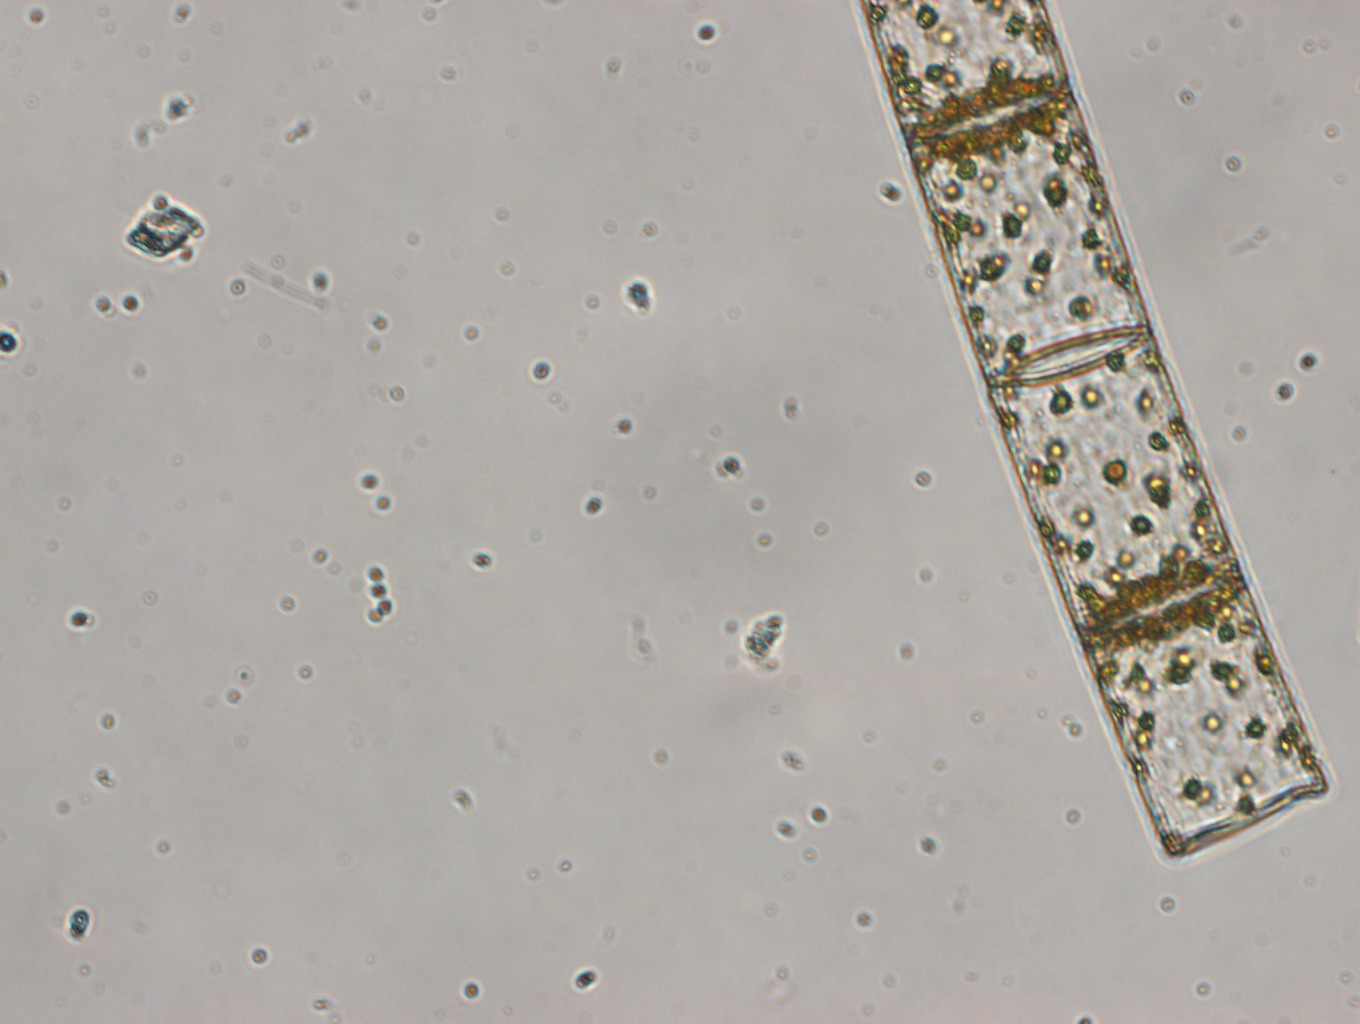guinardia flaccida: (853, 1, 1332, 858)
